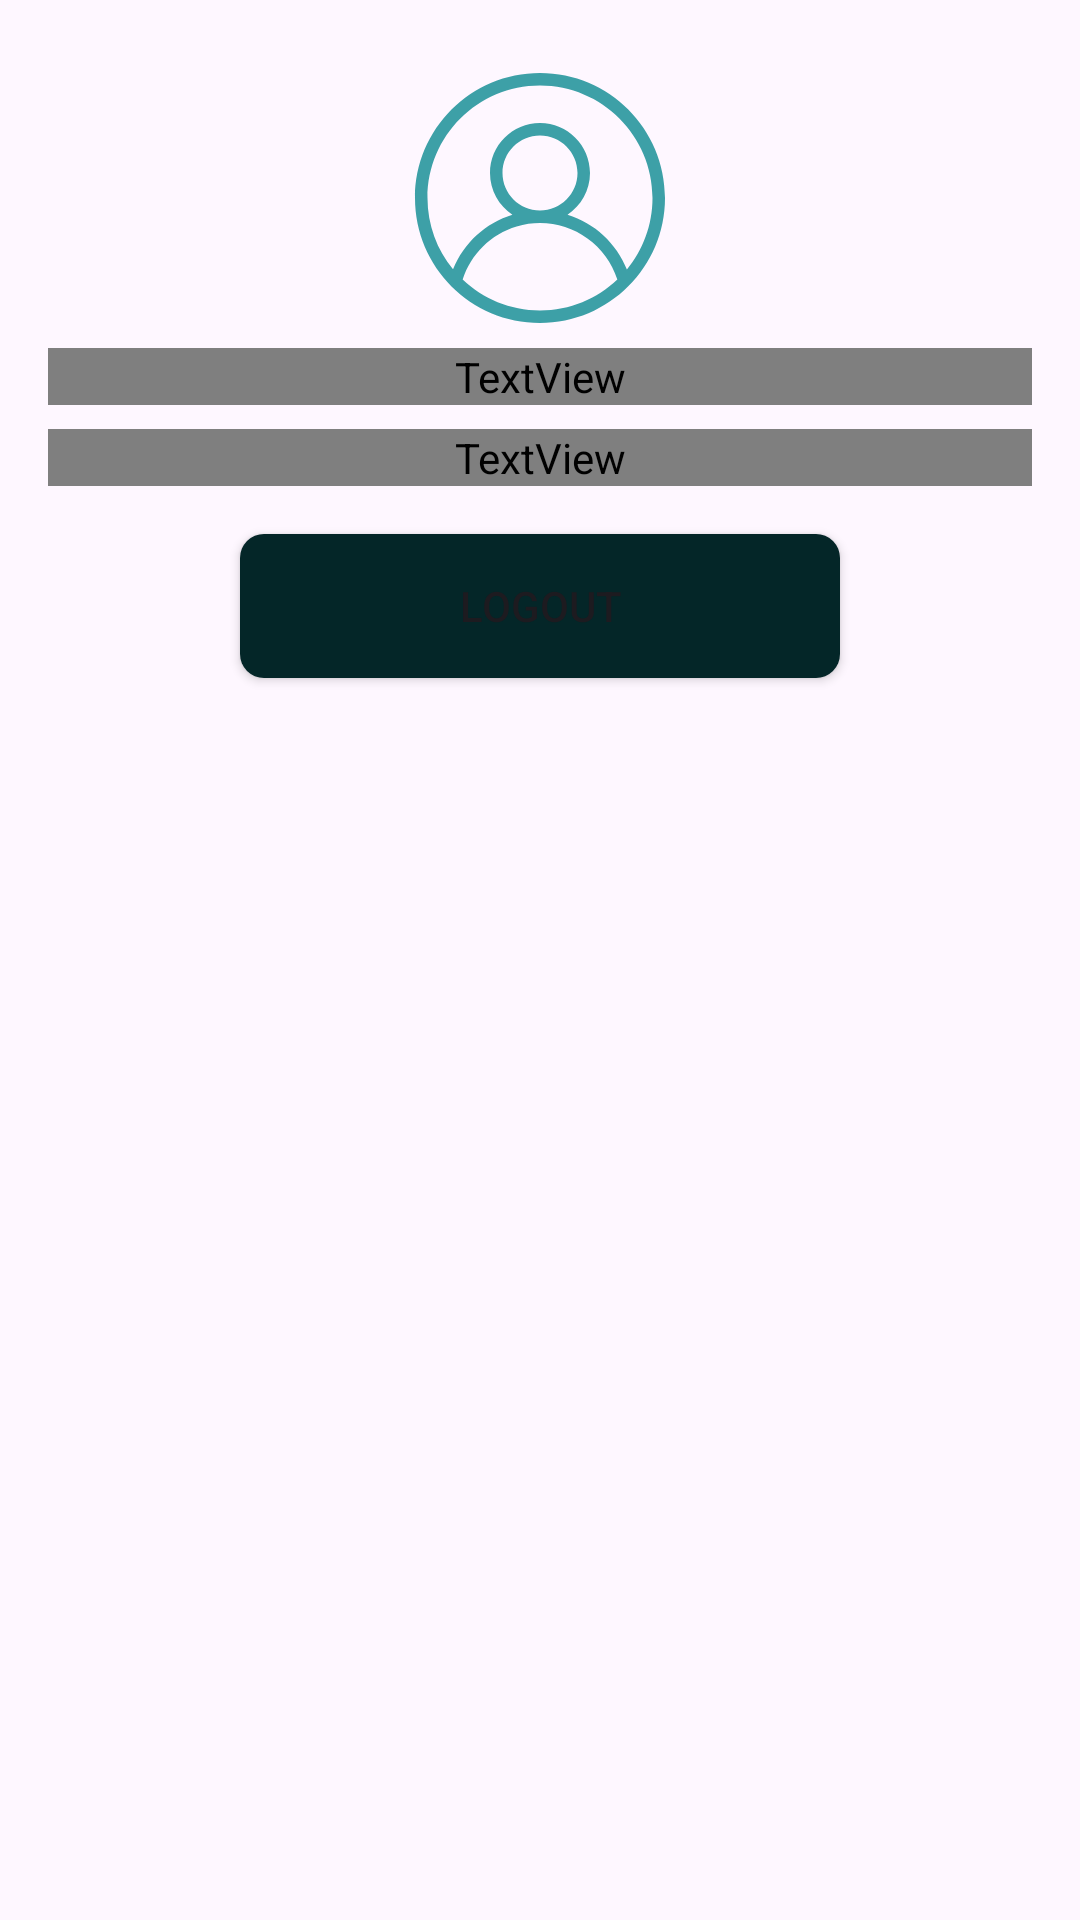

Screen size 1080px×1920px. Icon name, then its center in pixels as point (x, y):
profile: point (540, 198)
